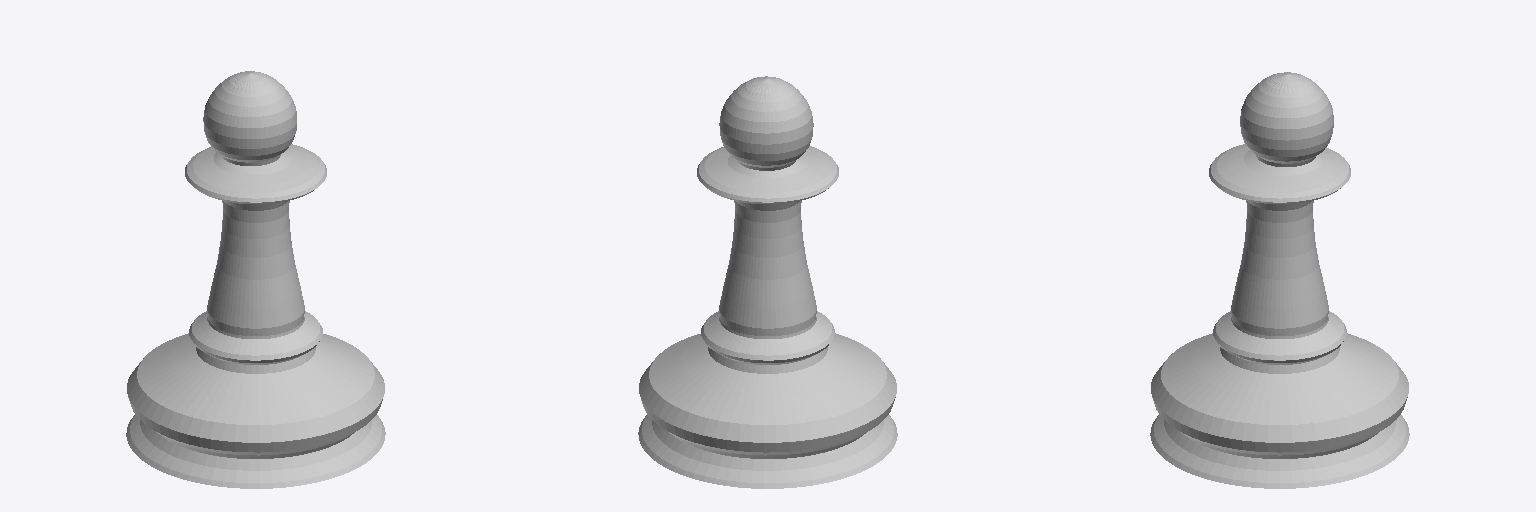
The model's file is black-pawn.obj.
3 renders of one model, left to right at view 1: azimuth 30°, elevation 25°; view 2: azimuth 150°, elevation 25°; view 3: azimuth 270°, elevation 25°, orthographic.
Visible parts, largest first — view 1: Pawn_Circle.002; view 2: Pawn_Circle.002; view 3: Pawn_Circle.002.
Boxes of the visible parts, x1,y1,x2,y2 form: Pawn_Circle.002: [126, 71, 385, 488]; Pawn_Circle.002: [638, 76, 897, 488]; Pawn_Circle.002: [1150, 72, 1409, 488].
Size of the model in its own units: 1.35 by 2.07 by 1.35.